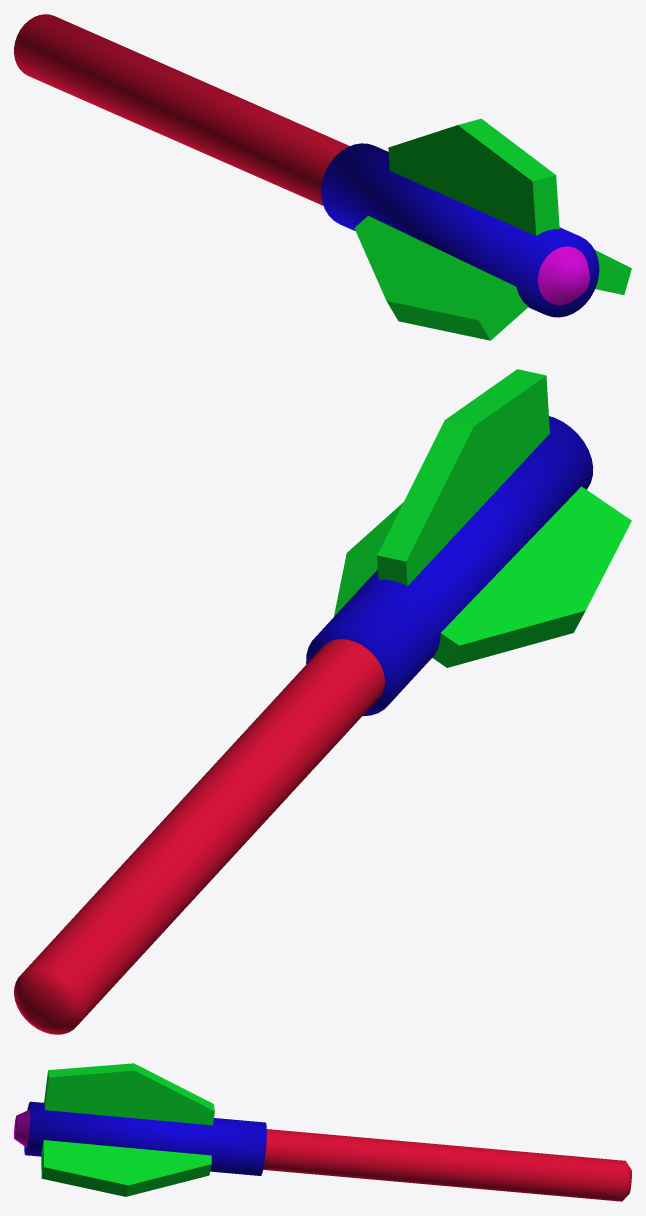
Rendered from JoinedMace.fbx.
3 views of the same model, one above another, from view 1: azimuth 30°, elevation 25°; view 2: azimuth 150°, elevation 25°; view 3: azimuth 270°, elevation 25° (orthographic). The views are drawn at different scales.
Parts seen in each view (by area): view 1: SwordBroken.002; view 2: SwordBroken.002; view 3: SwordBroken.002.
Boxes of the visible parts, left/top/right/bottom form: SwordBroken.002: left=14, top=14, right=631, bottom=340; SwordBroken.002: left=14, top=369, right=631, bottom=1034; SwordBroken.002: left=14, top=1063, right=631, bottom=1201.
Size of the model in its own units: 23.2 by 25.87 by 100.
